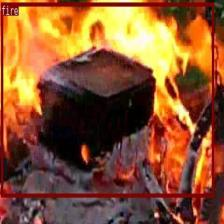fire: (1, 2, 214, 196)
